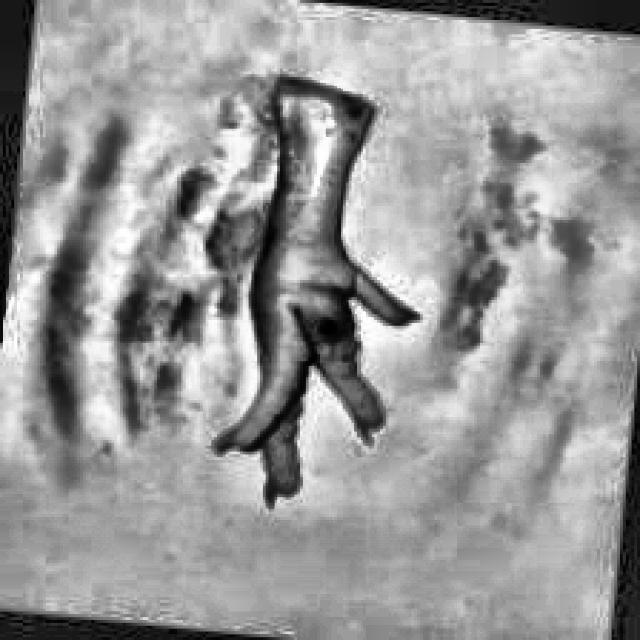Bumble foot: (209, 68, 420, 506)
